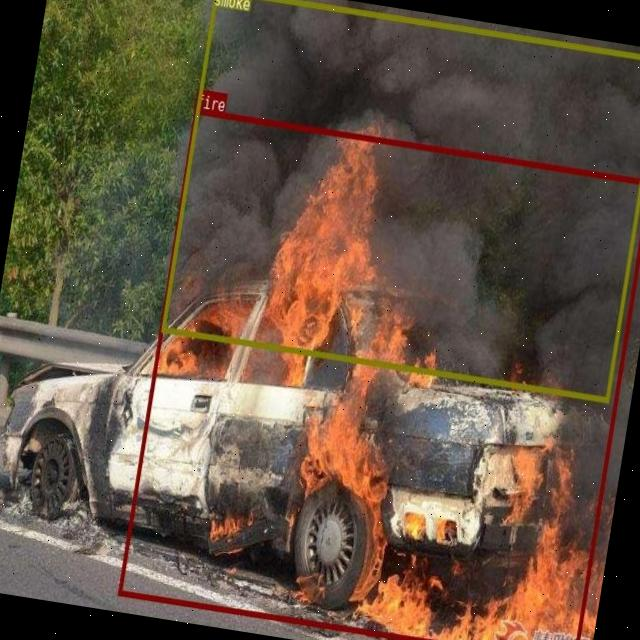fire: (117, 106, 640, 640)
smoke: (161, 0, 640, 401)
